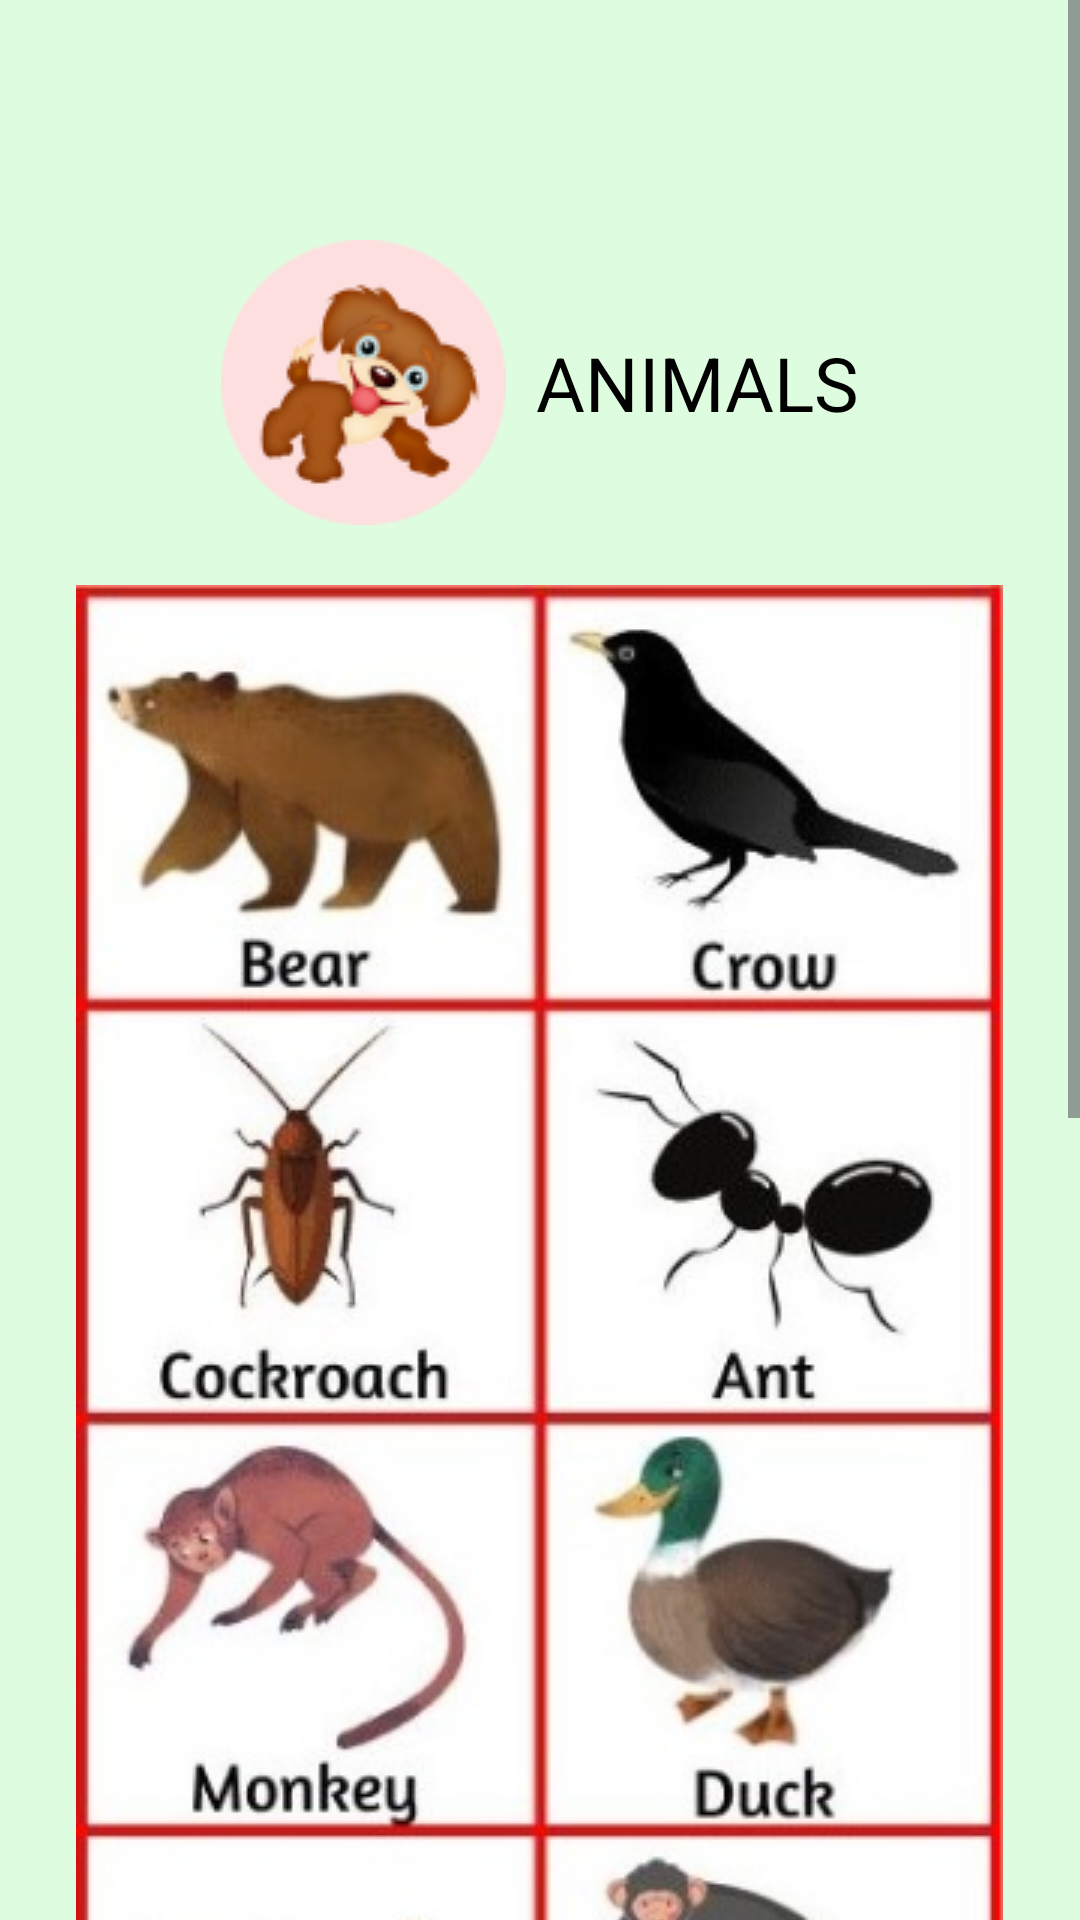

Icons on this 1080w x 1920h Android screen, each with the point to tap as [x,y]:
dog: [363,382]
